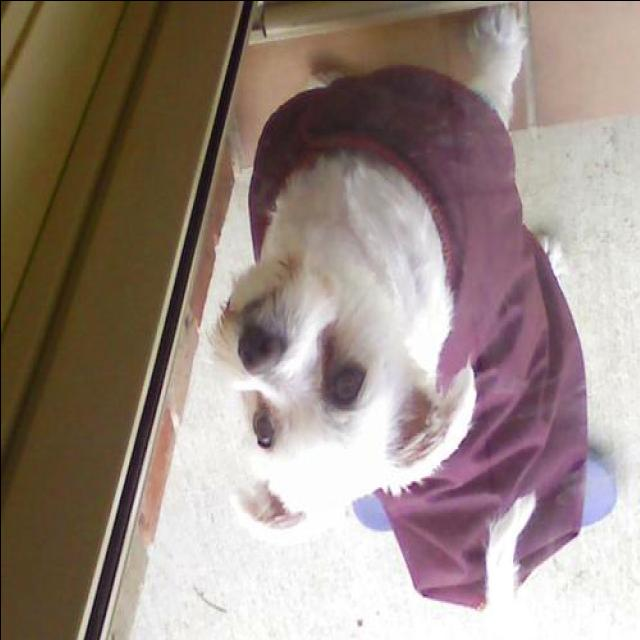maltese_dog: (206, 1, 588, 612)
